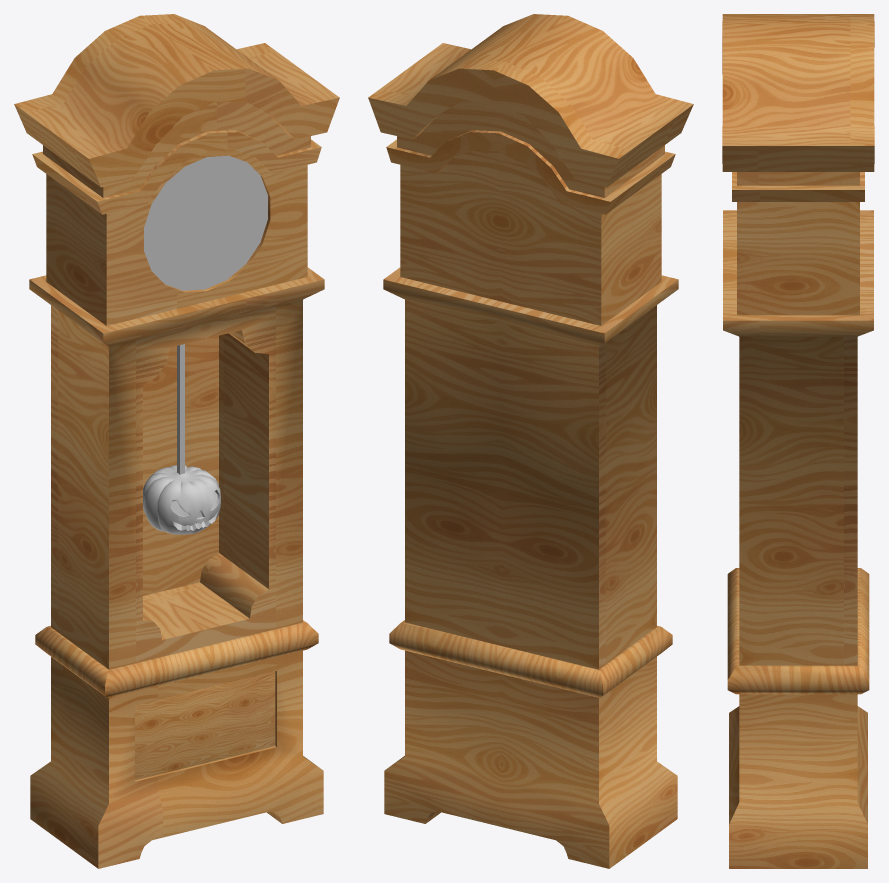
Rendered from Clock_Tower.fbx.
3 views of the same model, side by side, from view 1: azimuth 30°, elevation 25°; view 2: azimuth 150°, elevation 25°; view 3: azimuth 270°, elevation 25° (orthographic).
Parts seen in each view (by area): view 1: Clock_Tower; view 2: Clock_Tower; view 3: Clock_Tower.
Boxes of the visible parts, x1,y1,x2,y2 form: Clock_Tower: [14, 14, 339, 868]; Clock_Tower: [368, 14, 693, 868]; Clock_Tower: [722, 14, 874, 868].
Size of the model in its own units: 91.08 by 268 by 47.05.
